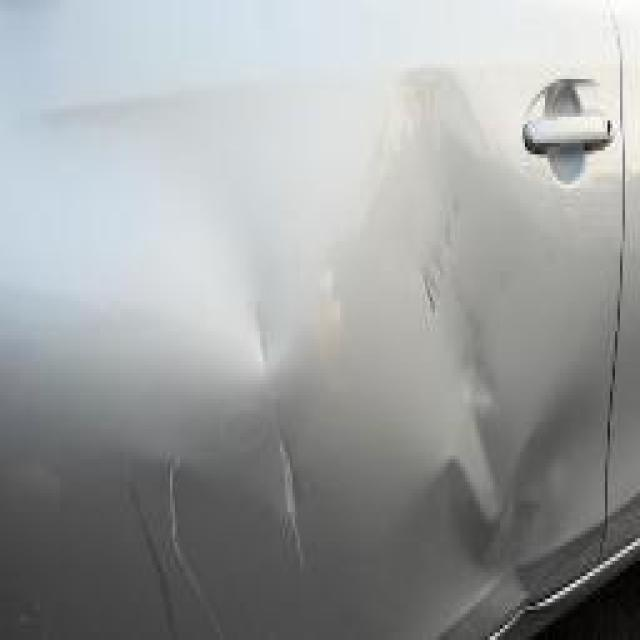Door: (110, 26, 612, 640)
